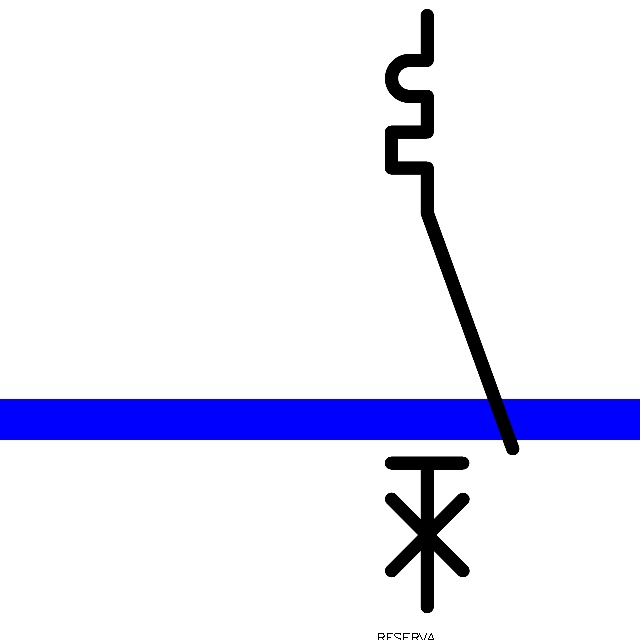interruptor_termomagnetico: (376, 0, 528, 621)
